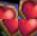heart: (18, 0, 37, 19), (0, 0, 18, 19), (18, 19, 37, 36), (0, 19, 18, 36)
